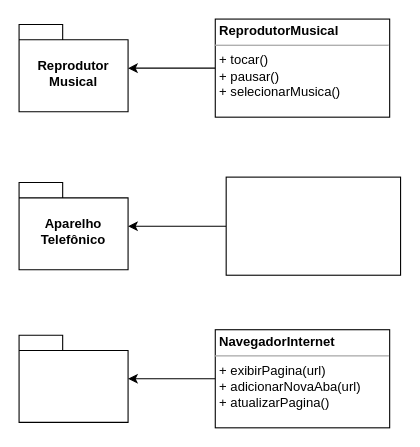
The diagram is 420 pixels wide and 447 high, and some of its shapes have lost their labels. The centre of each missing label's shape, as x and y in pixels:
AparelhoTelefonico + ligar(numero) + atender() + iniciarConversaVoz(): [313,225]
Navegador na Internet: [73,378]
